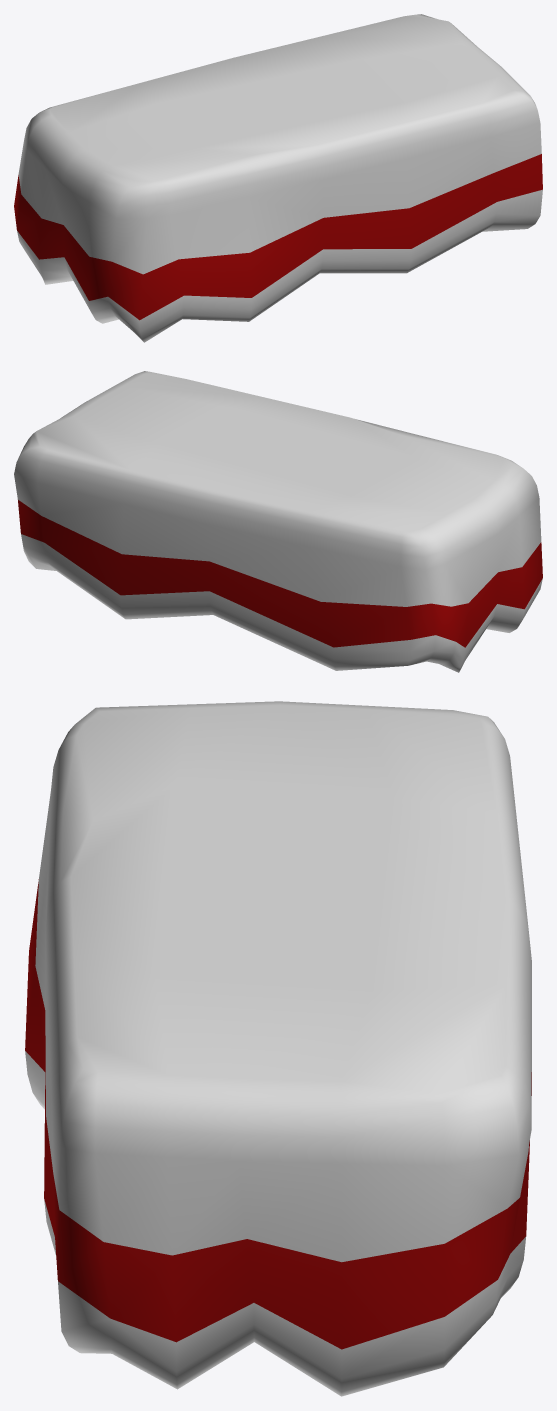
File: grass_04.fbx
3 views of the same model, one above another, from view 1: azimuth 30°, elevation 25°; view 2: azimuth 150°, elevation 25°; view 3: azimuth 270°, elevation 25° (orthographic). The views are drawn at different scales.
Parts seen in each view (by area): view 1: Box012; view 2: Box012; view 3: Box012.
Boxes of the visible parts, x1,y1,x2,y2 form: Box012: (14, 14, 542, 342); Box012: (14, 371, 542, 672); Box012: (25, 701, 531, 1396).
Bounding box in the file's own units: 386 × 129 × 194.
